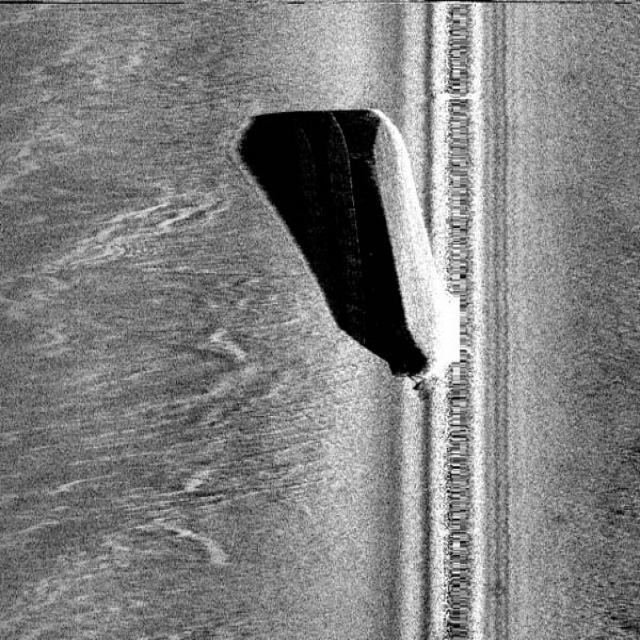ship: (325, 95, 462, 379)
